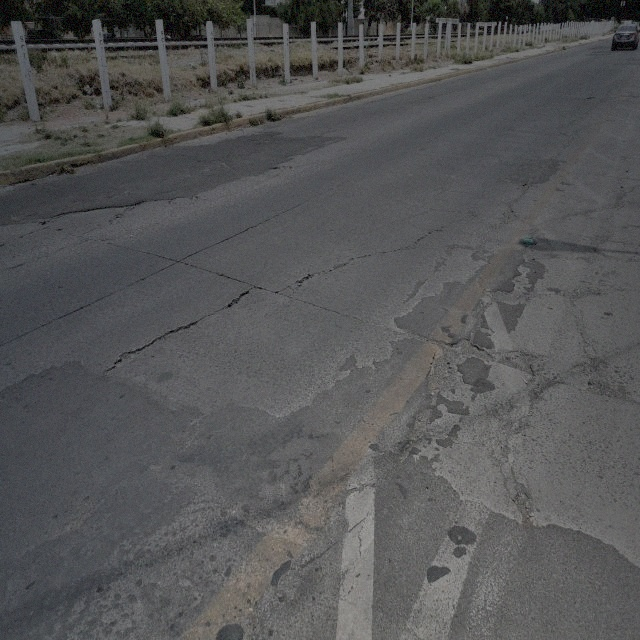pothole: (422, 338, 495, 403), (491, 253, 532, 300), (499, 351, 537, 379)
